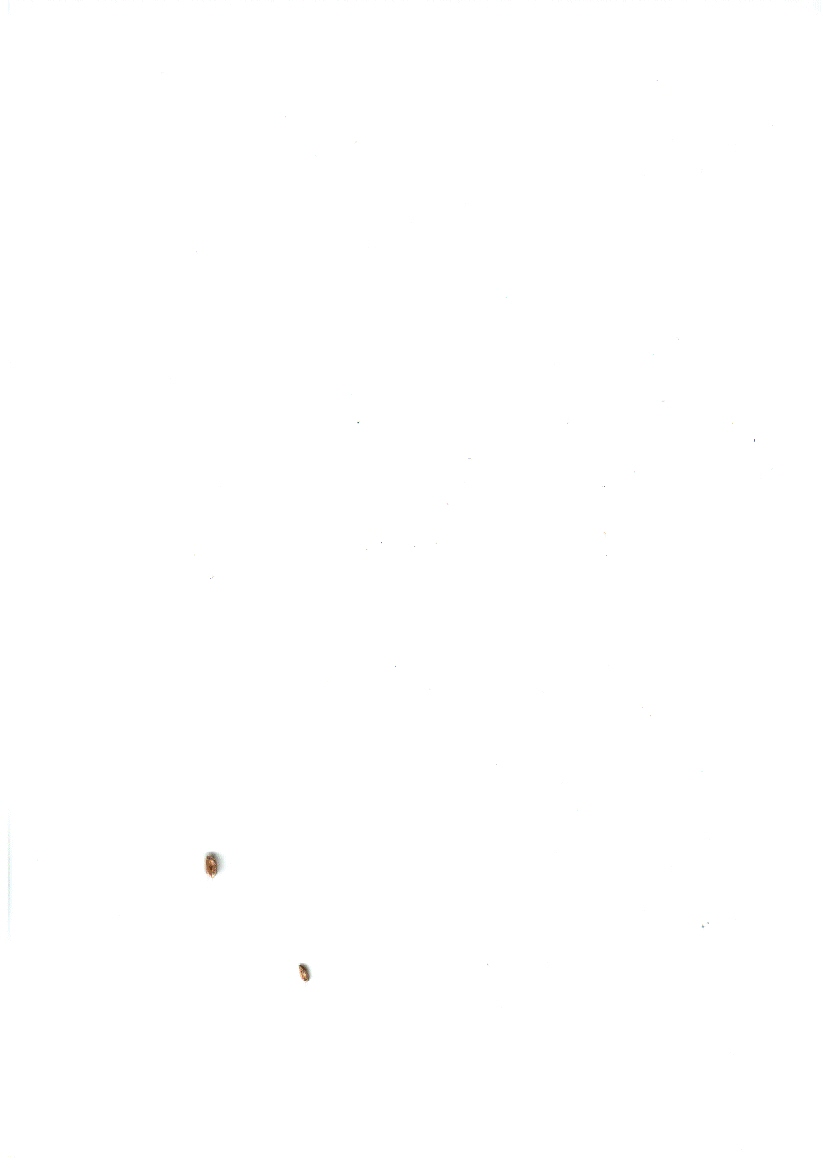grains: (192, 845, 231, 890), (289, 955, 321, 992)
